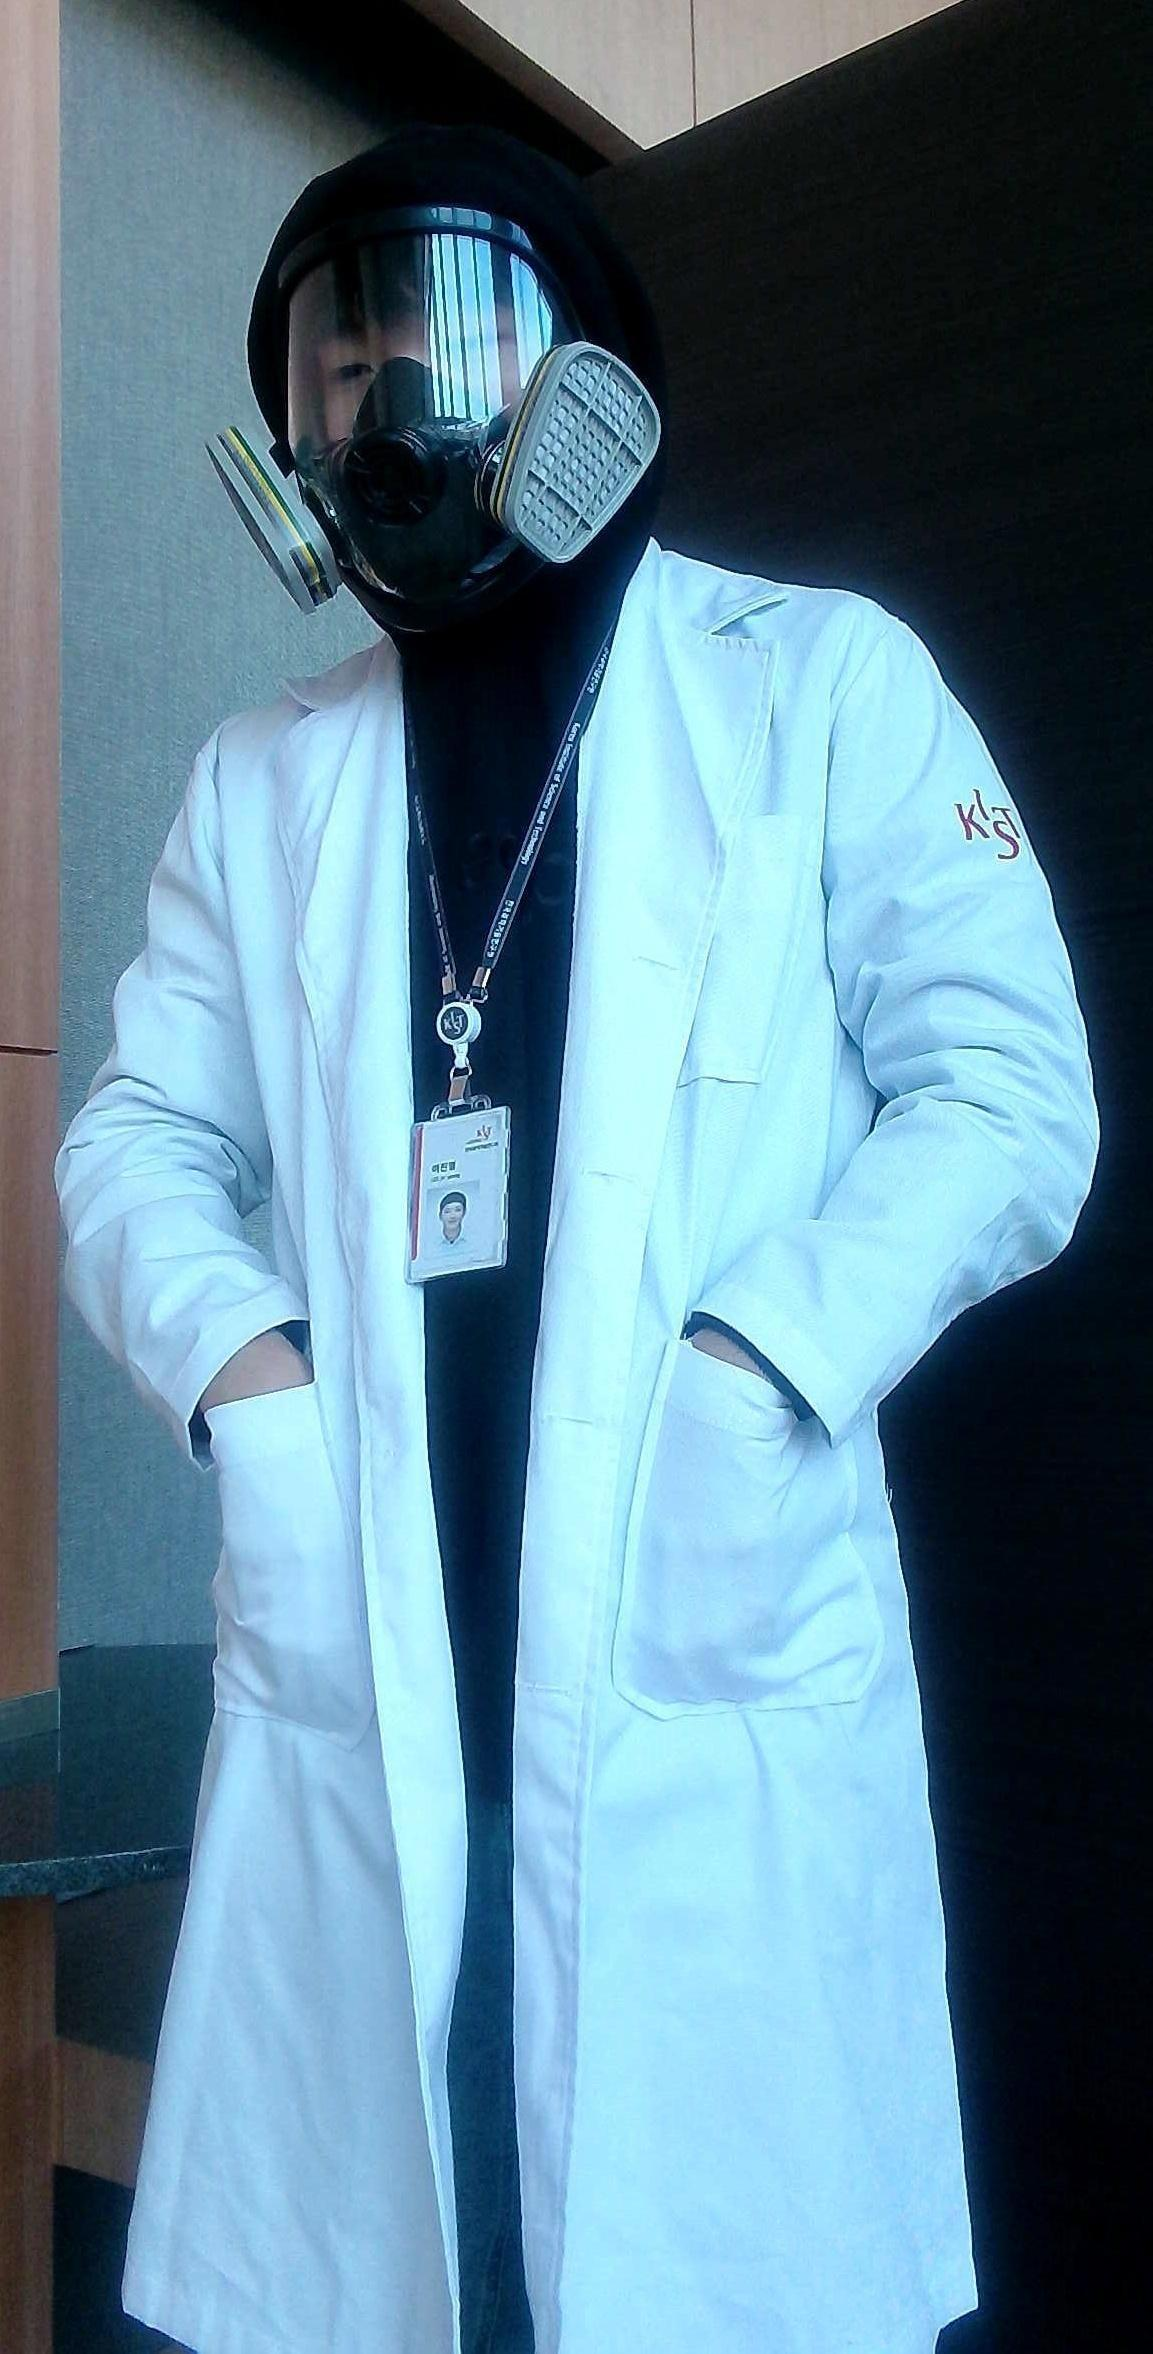lab_coat: (152, 686, 1016, 2354)
